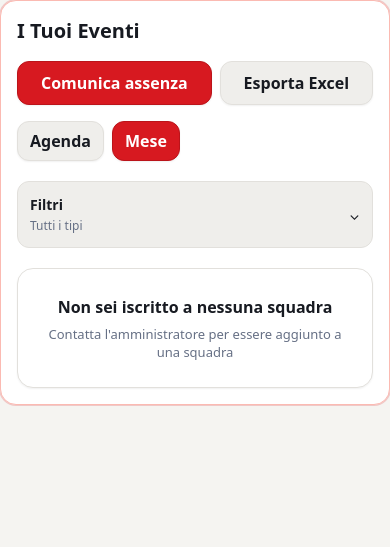
Test: AthleteCalendarManager load states › renders the valid empty state only after a successful empty response
The image size is (390, 547).
expect the text "Non sei iscritto a nessuna squadra" is shown: met, box [42,295,348,319]
Click the button "Filtri Tutti i tipi ⌄". click: [46, 204]
box: [30,194,360,235]
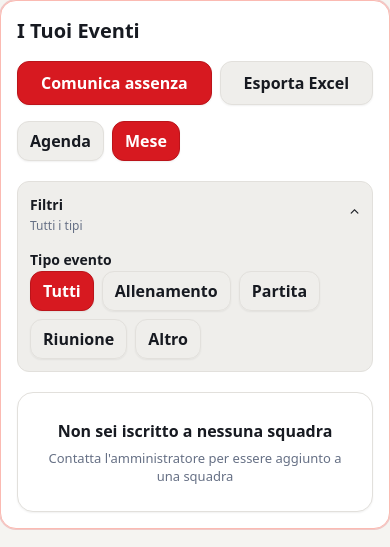
expect the button "Filtri Tutti i tipi ⌄" is expanded: met, box [30,194,360,235]
Click the button "Allenamento". click: [166, 291]
box: [102,271,231,311]
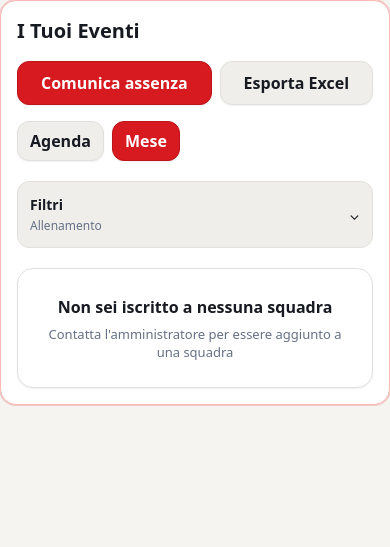
expect the button "Filtri Allenamento ⌄" is collapsed: met, box [30,194,360,235]
